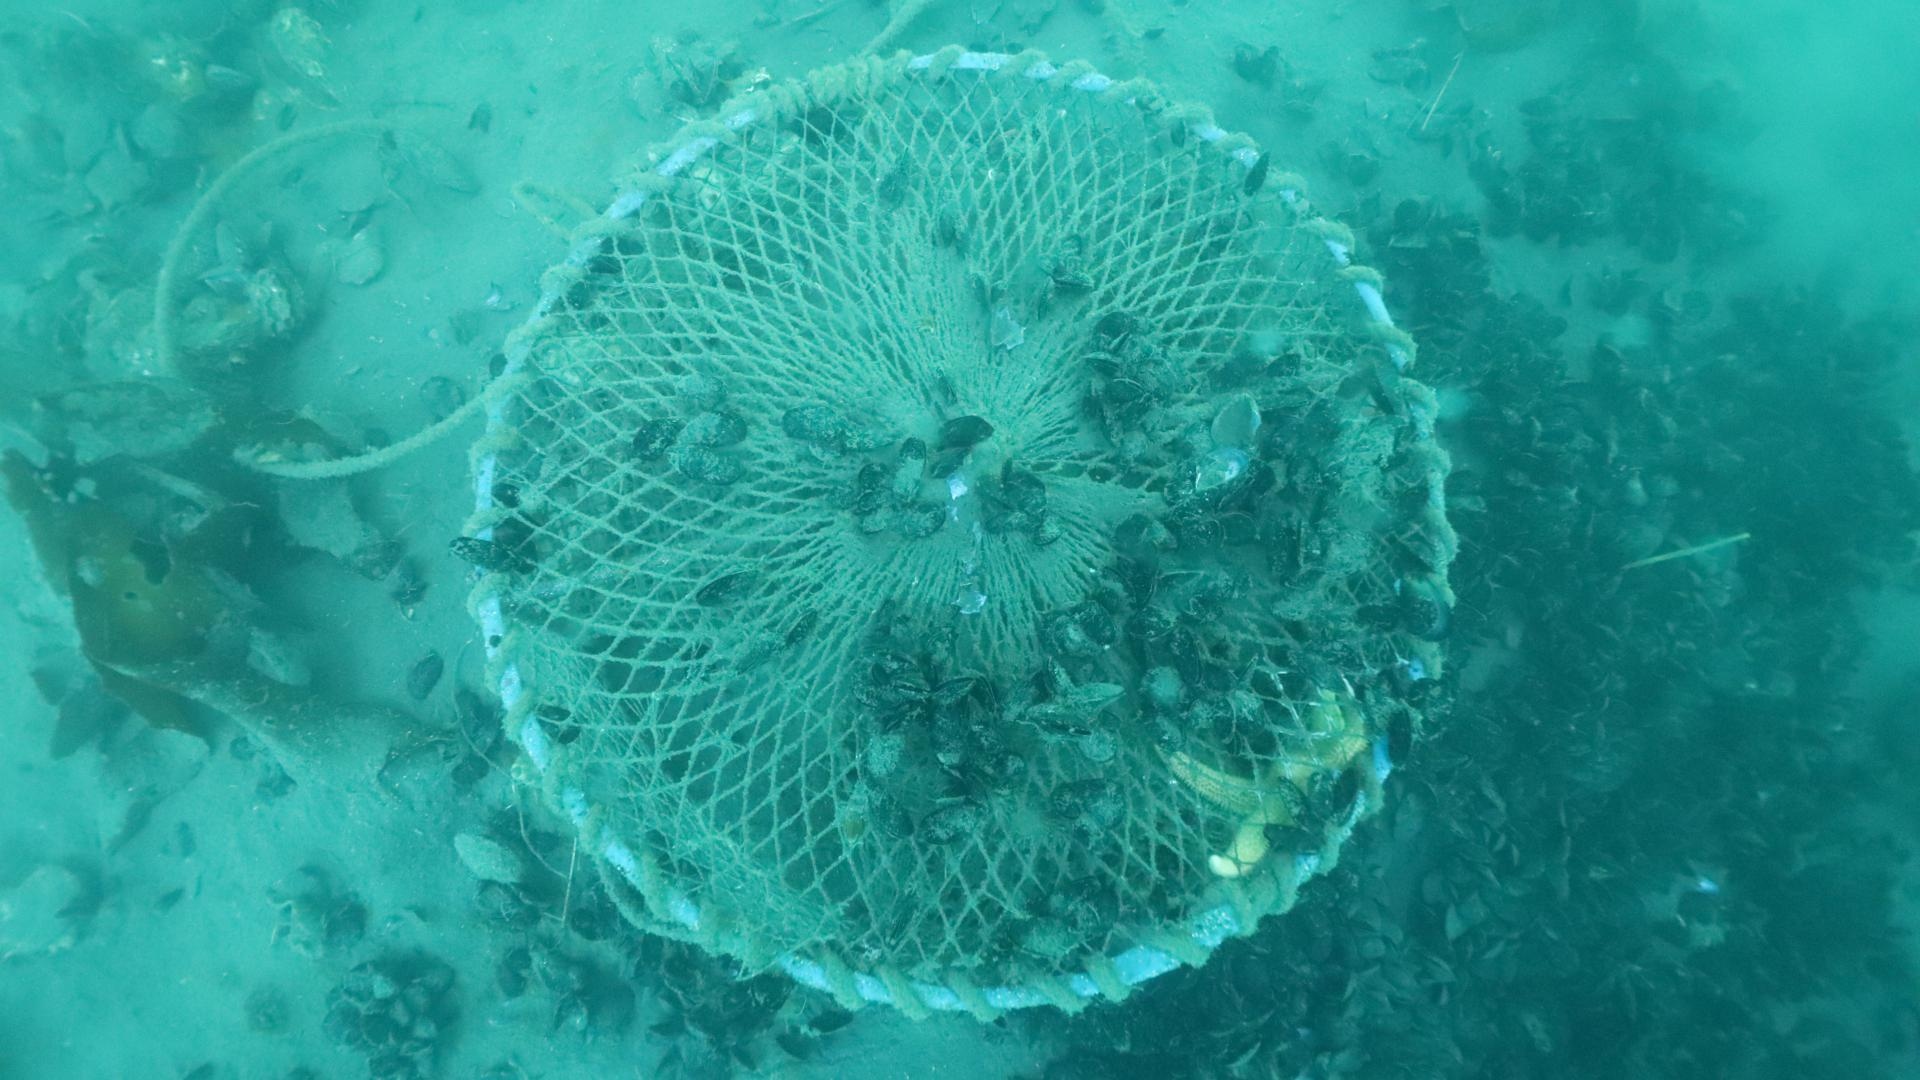bundle of ropes: (146, 112, 512, 484)
circular fish trap: (465, 44, 1472, 1019)
